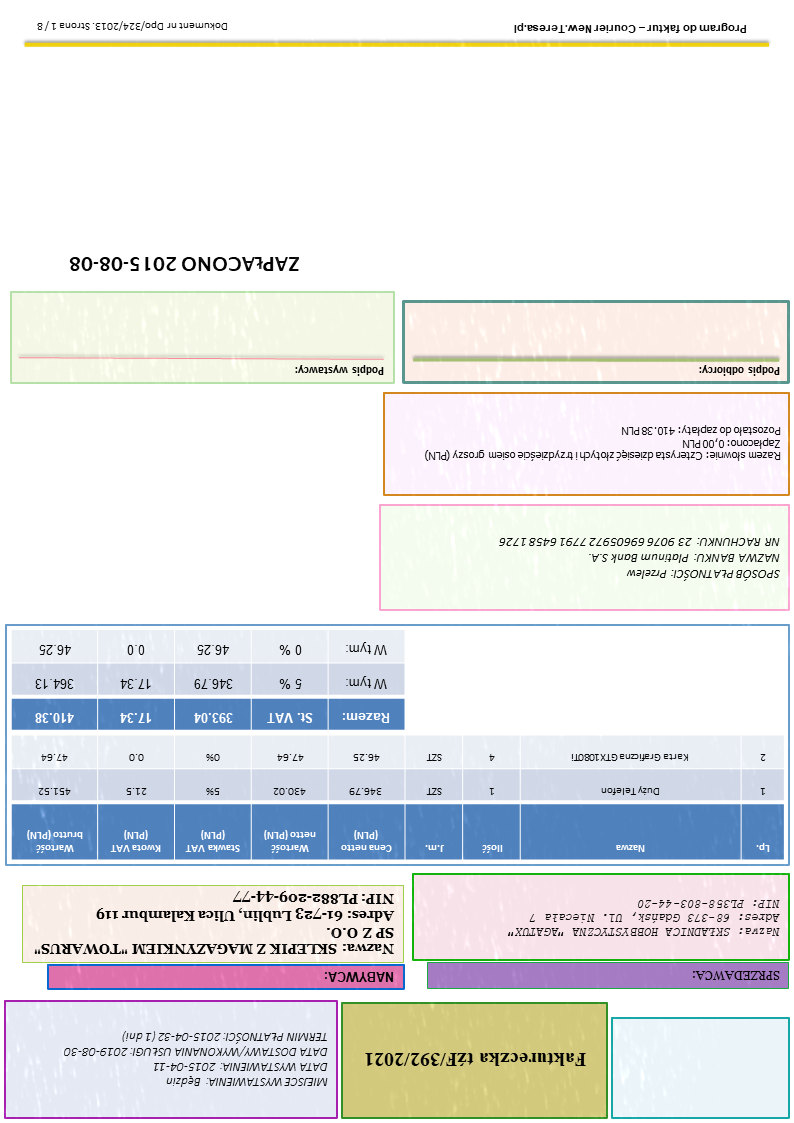Table: (11, 734, 785, 862), (11, 629, 406, 732)
TextBox: (32, 890, 397, 957), (62, 1029, 330, 1089), (423, 424, 782, 464), (497, 535, 783, 583), (507, 897, 782, 941), (364, 1050, 588, 1070), (69, 255, 301, 274), (512, 20, 750, 37), (35, 18, 230, 35), (689, 967, 783, 984), (294, 362, 387, 379), (697, 363, 783, 379), (323, 969, 396, 986)
